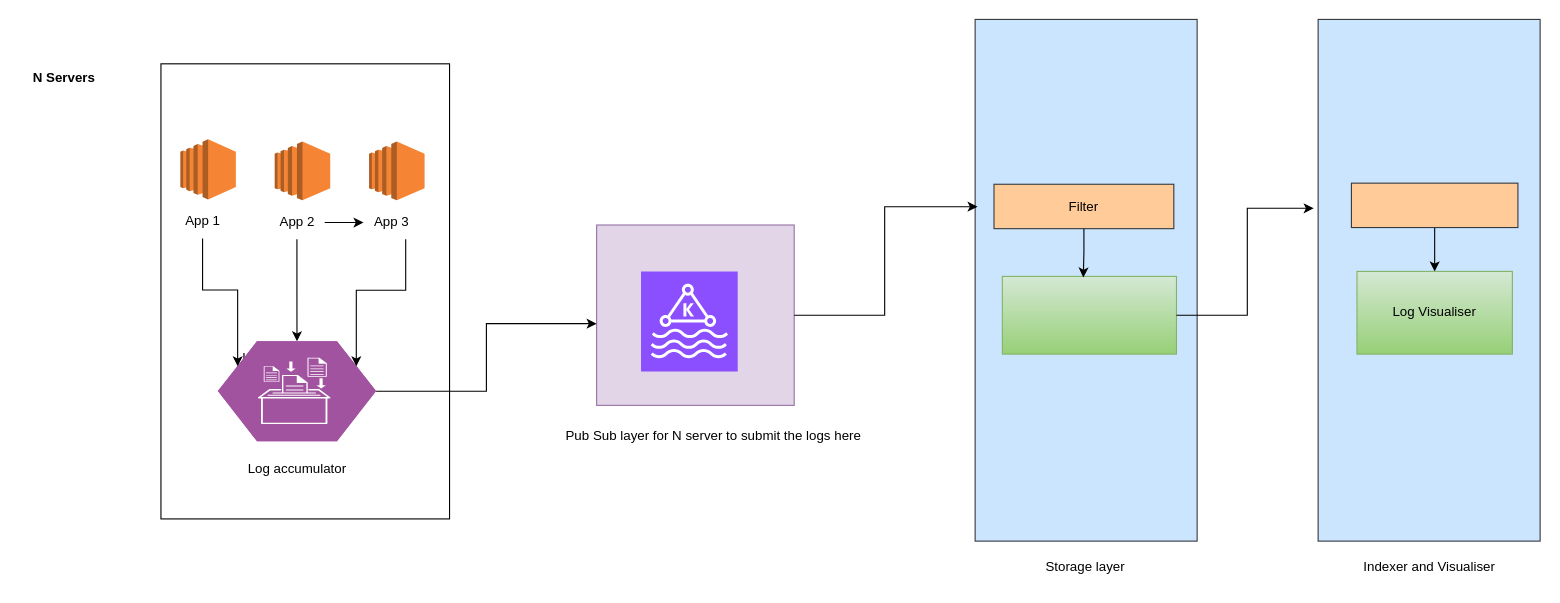
Image size: 1560x603. Some labels were removed from this diagram. The shapes that lost their labels are listed below. From the top down, each one's centre as x and y in pixels, then its label:
At (x=1434, y=205): "Log Indexer".
At (x=1088, y=314): "Blob Storage like S3 / HDFS".
